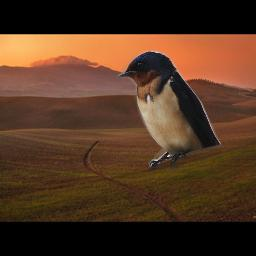Swallow: (117, 50, 222, 170)
